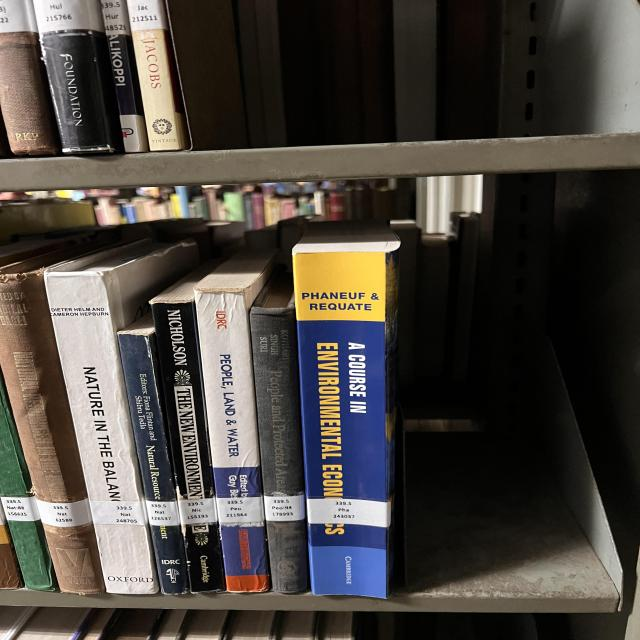Book: (45, 239, 198, 594), (293, 221, 400, 598), (0, 241, 105, 595), (193, 250, 275, 592), (150, 264, 223, 591), (118, 314, 188, 594), (250, 271, 308, 594), (33, 0, 123, 154), (0, 376, 58, 590), (127, 0, 192, 151), (100, 0, 148, 152)
Label: (307, 499, 392, 528), (33, 0, 105, 34), (37, 499, 92, 528), (90, 500, 147, 525), (217, 496, 263, 524), (127, 0, 168, 31), (100, 0, 132, 36), (263, 495, 305, 521), (178, 498, 218, 525), (0, 496, 40, 521), (145, 500, 180, 526)
